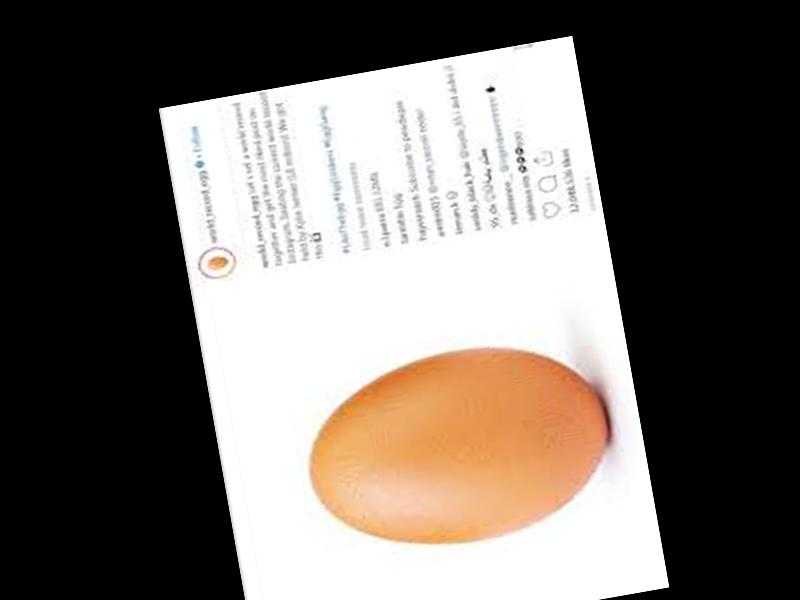Eggs: (293, 329, 621, 569)
